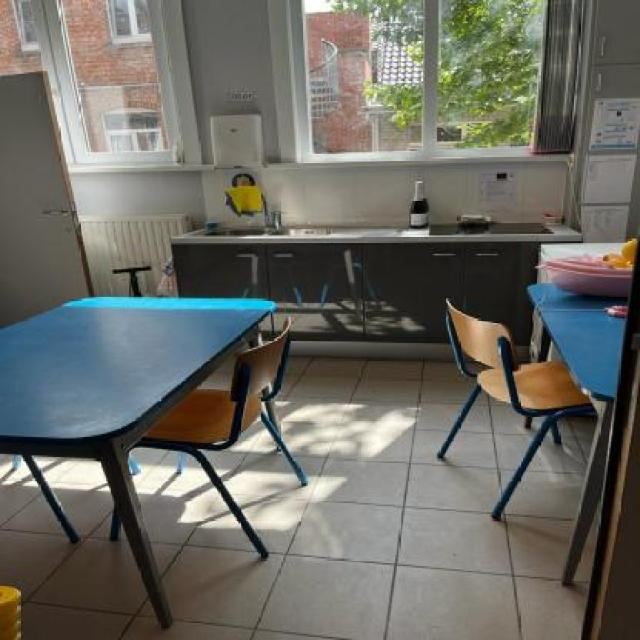Floor: (0, 356, 602, 640), (196, 355, 236, 391), (466, 361, 495, 374)
